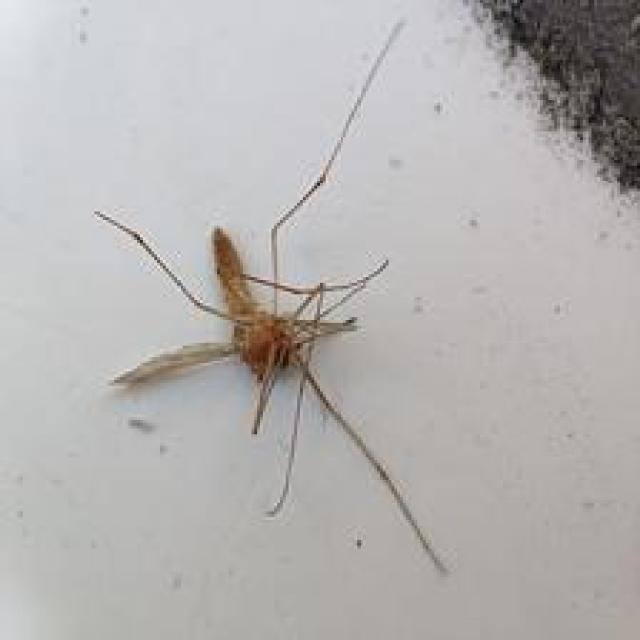Culex: (93, 14, 456, 574)
